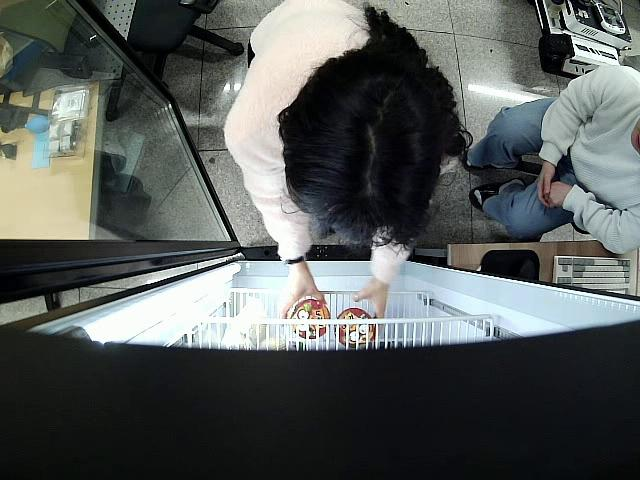00_hand: (278, 272, 327, 319), (352, 279, 387, 337)
06_nuguri_S: (291, 300, 330, 339), (335, 309, 374, 348)
